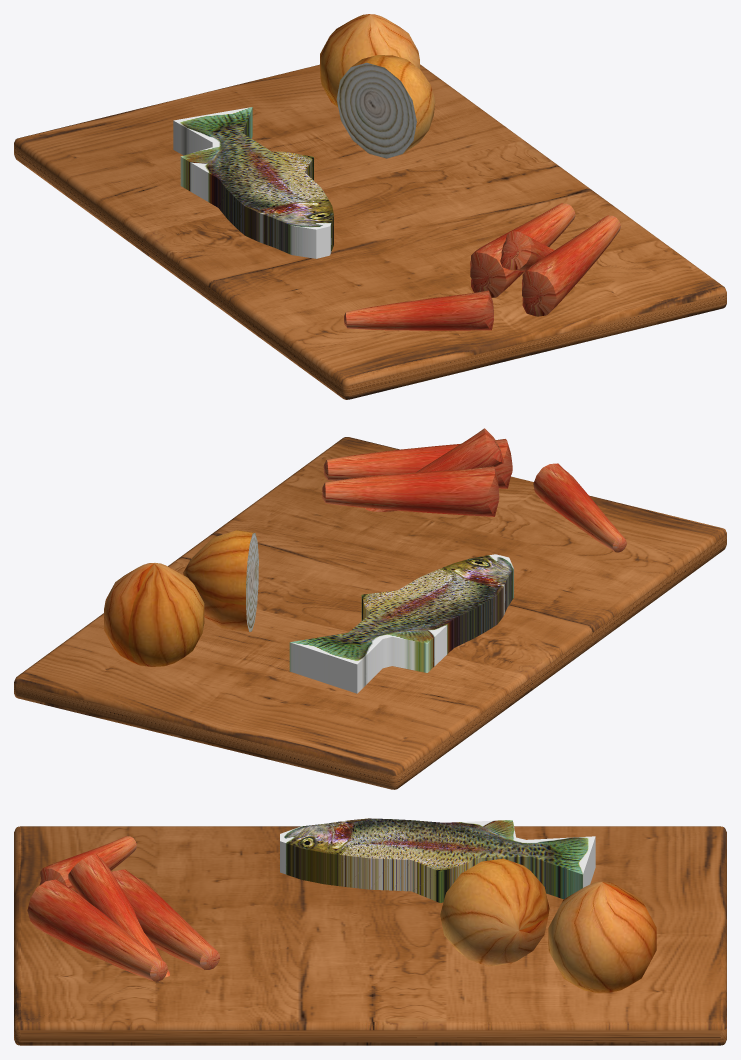
The model's file is CuttingBoard.FBX.
3 renders of one model, top to bottom at view 1: azimuth 30°, elevation 25°; view 2: azimuth 150°, elevation 25°; view 3: azimuth 270°, elevation 25°, orthographic. The views are drawn at different scales.
Parts seen in each view (by area): view 1: CuttingBoard, Fish, Carrot (×4), Onion001, Onion; view 2: CuttingBoard, Fish, Carrot (×4), Onion, Onion001; view 3: CuttingBoard, Fish, Carrot (×4), Onion, Onion001.
Part boxes in pixels (x1=…): CuttingBoard: x1=14, y1=64, x2=726, y2=399; Fish: x1=173, y1=107, x2=333, y2=258; Carrot (×4): x1=344, y1=203, x2=620, y2=330; Onion001: x1=336, y1=55, x2=435, y2=158; Onion: x1=320, y1=14, x2=419, y2=106; CuttingBoard: x1=14, y1=437, x2=726, y2=789; Fish: x1=289, y1=554, x2=513, y2=693; Carrot (×4): x1=322, y1=428, x2=626, y2=552; Onion: x1=104, y1=563, x2=204, y2=666; Onion001: x1=183, y1=530, x2=258, y2=631; CuttingBoard: x1=14, y1=826, x2=726, y2=1045; Fish: x1=280, y1=818, x2=595, y2=902; Carrot (×4): x1=27, y1=836, x2=219, y2=981; Onion: x1=548, y1=881, x2=656, y2=992; Onion001: x1=440, y1=858, x2=549, y2=966.
Bounding box in the file's own units: 55.81 × 15.87 × 83.78.
Materials: 5 (5 with a texture image).
